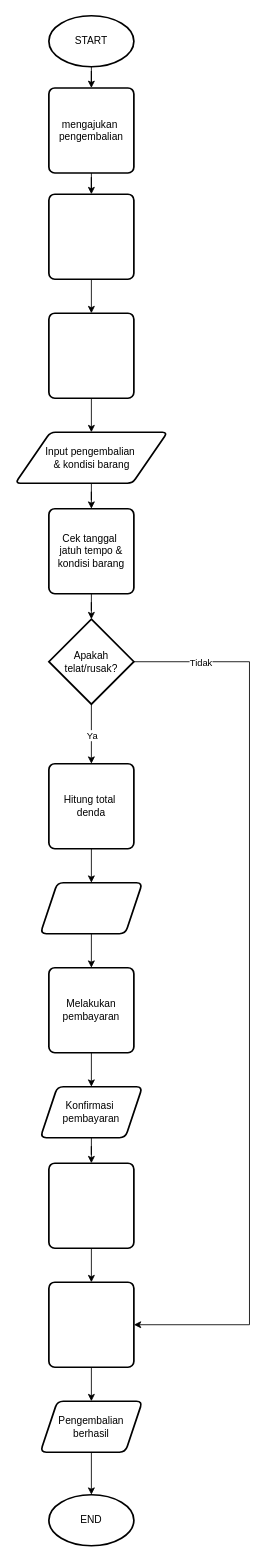
Some shapes in this 271 by 1561 pixel diagram are drawn without their labels. The centre of each missing label's shape, as x and y in pixels:
"mengecek barang" goes at point (91, 355).
"menyerahkan barang" goes at point (91, 236).
"Simpan status lunas" goes at point (91, 1205).
"Status dikembalikan & tambahkan stok" goes at point (91, 1324).
"Tagihan denda" goes at point (91, 907).
